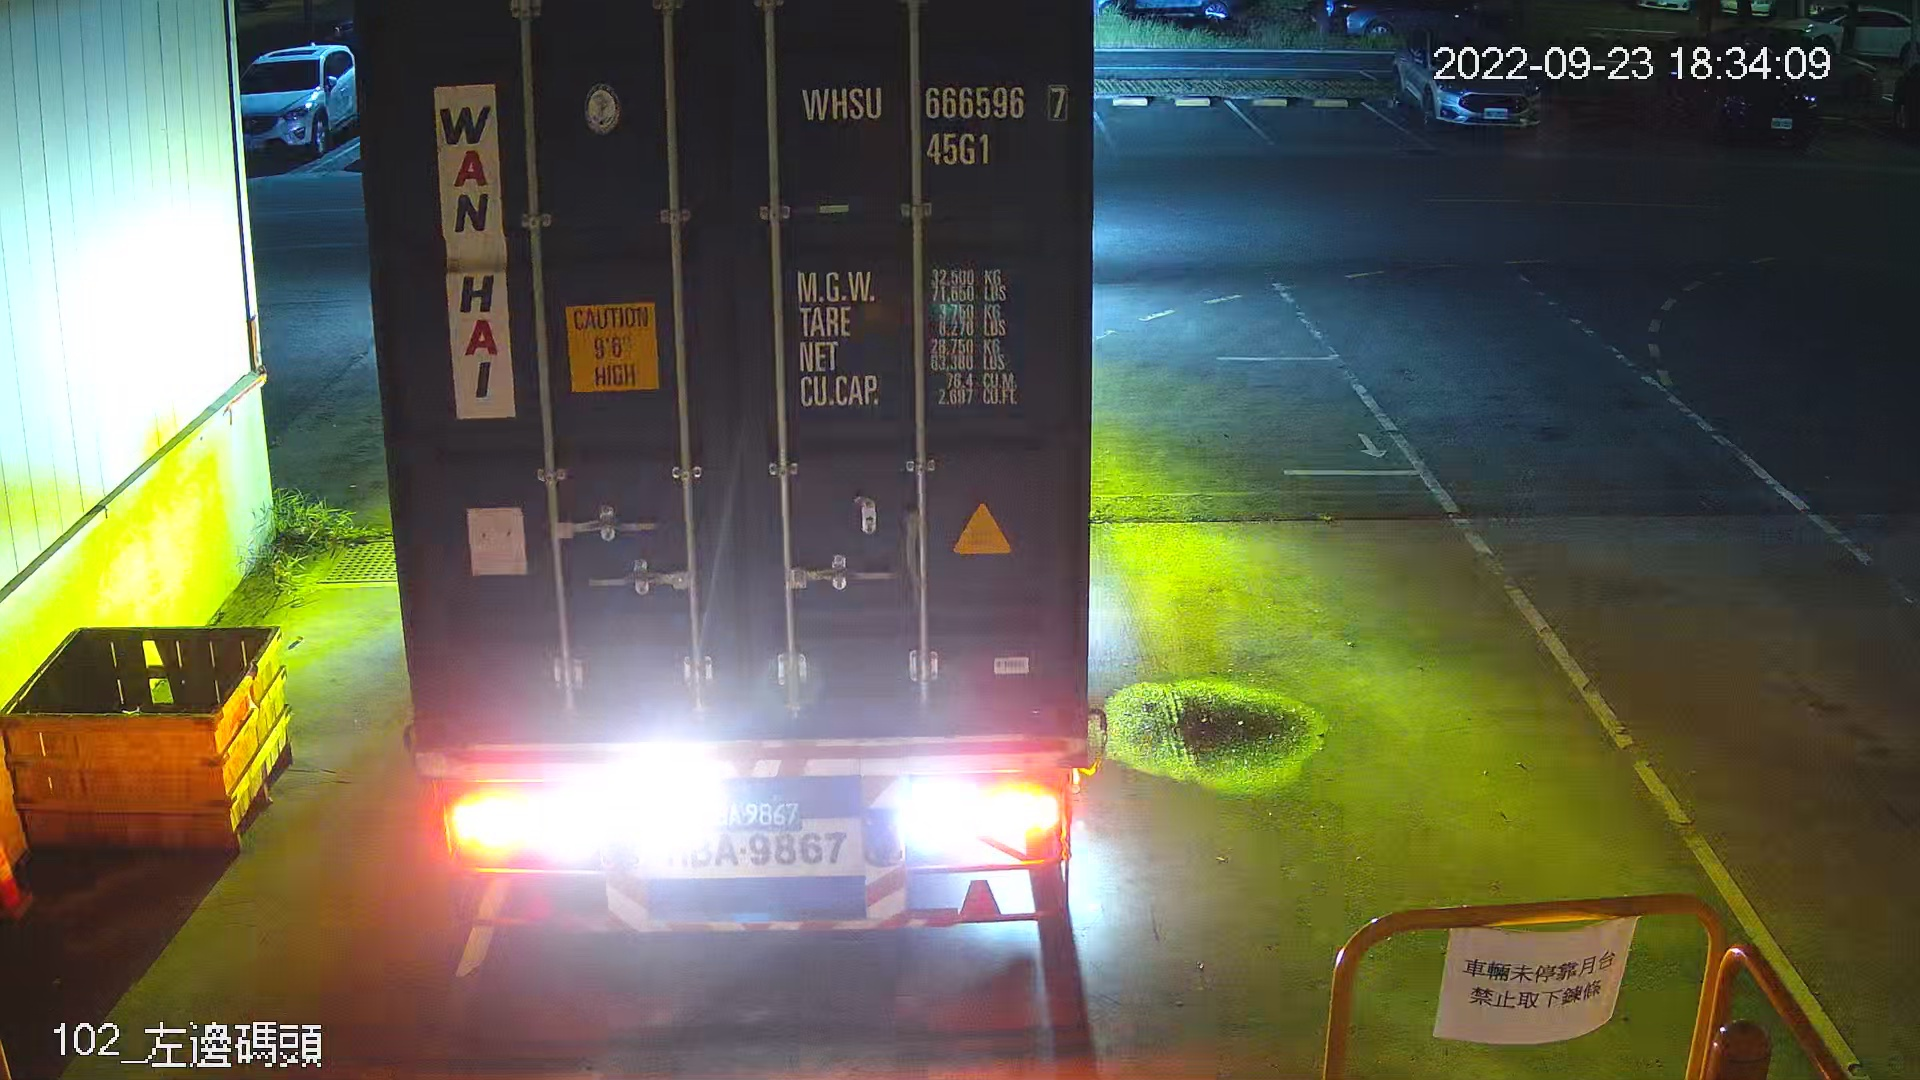container: (793, 76, 1081, 175)
